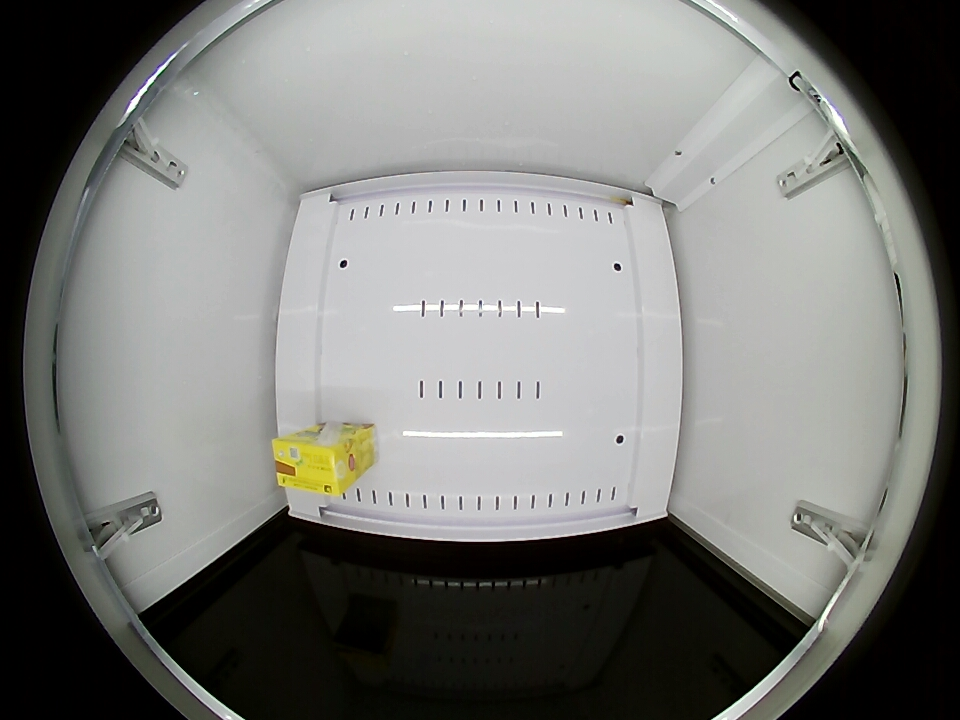weitaningmeng: (272, 432, 355, 496)
